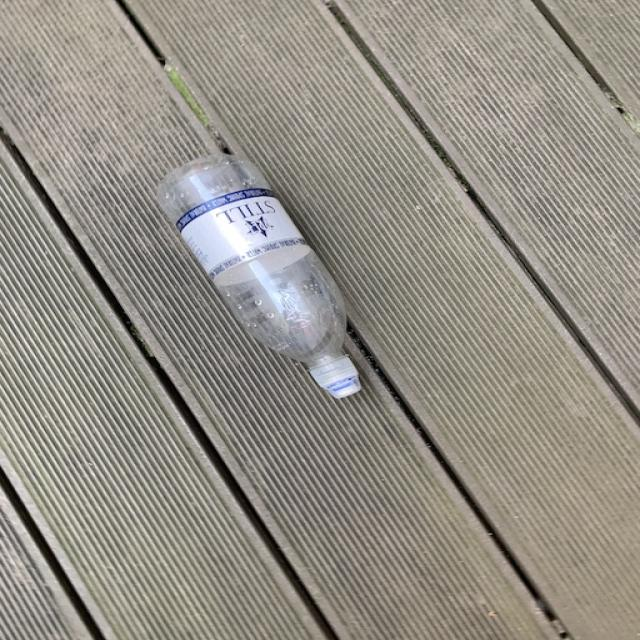litter: (158, 154, 374, 401)
